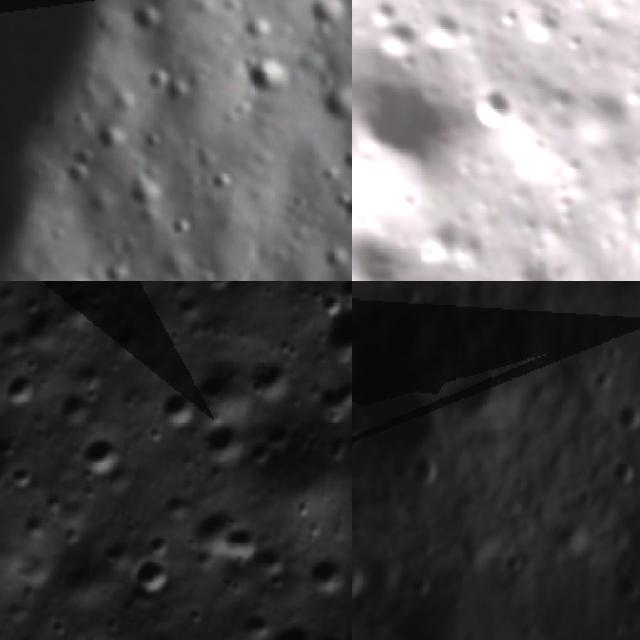crater: (352, 49, 468, 192), (352, 370, 446, 453), (352, 602, 462, 640), (463, 73, 526, 139), (452, 354, 508, 424), (125, 548, 182, 605), (379, 302, 428, 362), (244, 352, 298, 405), (152, 378, 204, 432), (78, 432, 130, 484), (217, 518, 266, 568), (318, 296, 352, 368), (0, 454, 44, 505), (306, 554, 352, 601), (191, 281, 270, 308), (60, 384, 106, 430), (360, 0, 411, 41), (358, 549, 402, 595), (247, 52, 291, 96), (0, 367, 41, 409), (200, 421, 241, 462), (266, 420, 306, 460), (557, 25, 597, 63), (406, 451, 444, 490), (239, 436, 277, 474), (266, 619, 326, 640), (125, 178, 173, 204), (613, 396, 640, 433), (312, 0, 349, 26), (609, 455, 640, 486), (128, 6, 164, 32), (139, 66, 170, 95), (61, 164, 99, 186), (319, 242, 352, 267), (96, 128, 130, 151), (166, 217, 197, 238), (206, 172, 237, 193), (337, 190, 352, 228), (104, 262, 130, 281), (72, 150, 105, 164), (49, 223, 71, 244), (171, 78, 189, 103), (352, 551, 361, 600), (194, 143, 216, 161), (145, 133, 165, 151), (323, 165, 341, 185), (338, 148, 352, 169)
